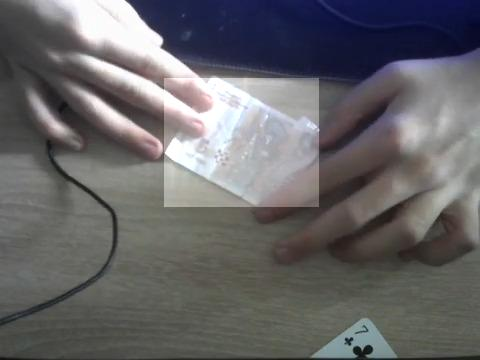5leva: (164, 78, 319, 207)
